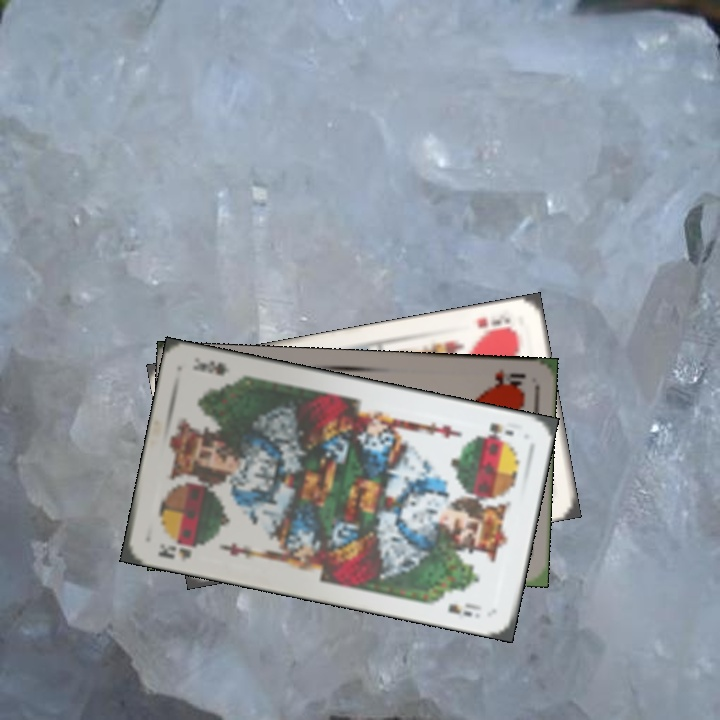HK: (472, 313, 515, 338)
HO: (484, 364, 528, 391)
SK: (154, 537, 194, 565), (484, 418, 517, 441)
